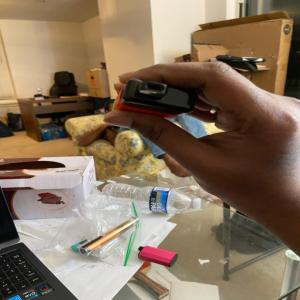Swift-E-Ciggirate: (105, 76, 204, 116)
